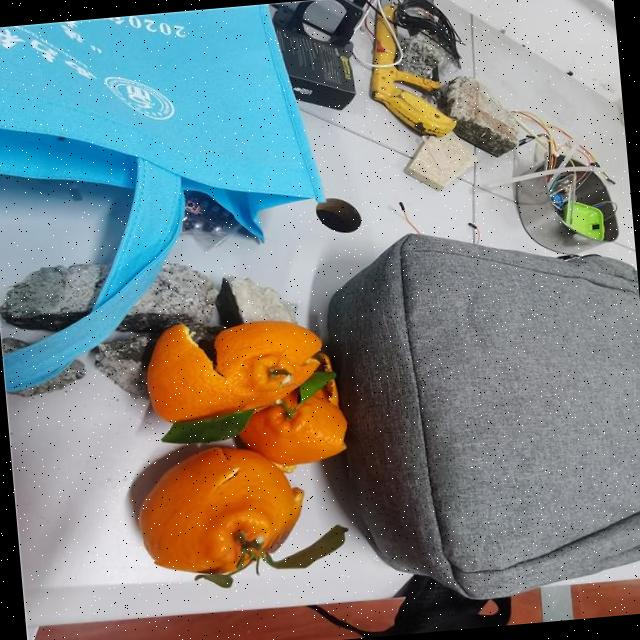orange-peel: (130, 438, 310, 582), (140, 309, 328, 424)
